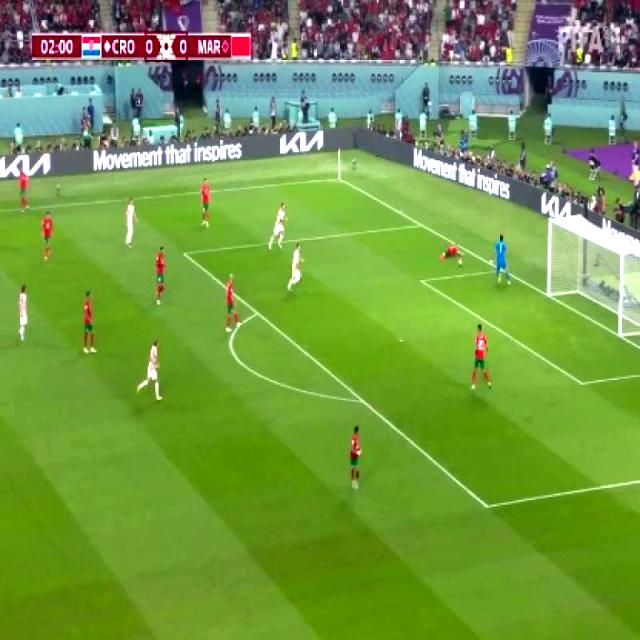bigarea_bottom_inner: (478, 494, 494, 518)
bigarea_top_inner: (179, 246, 189, 262)
bigarea_top_outter: (415, 218, 425, 232)
bottom_arc_area_intersection: (356, 392, 366, 408)
corner: (332, 175, 342, 182)
smallarea_bottom_inner: (574, 372, 589, 394)
smallarea_top_inner: (417, 274, 428, 288)
top_arc_area_intersection: (250, 305, 262, 320)
